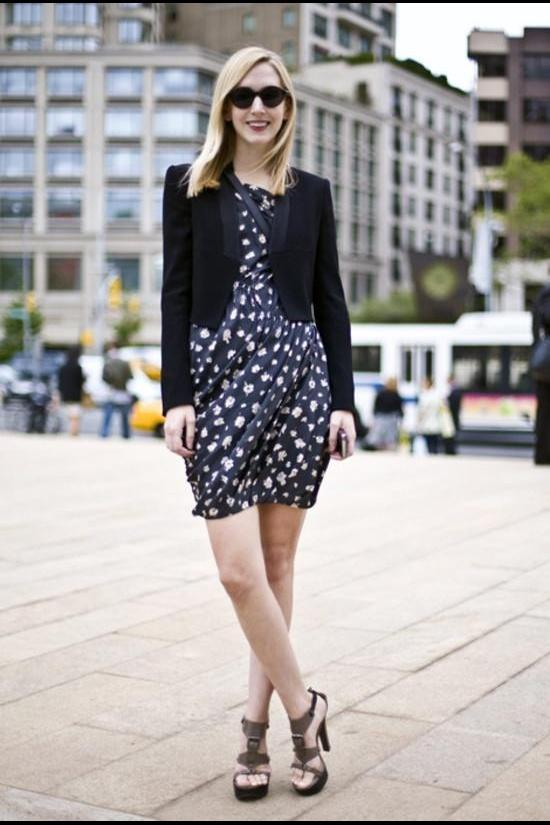dress: (184, 162, 333, 518)
sweater: (163, 165, 358, 414)
